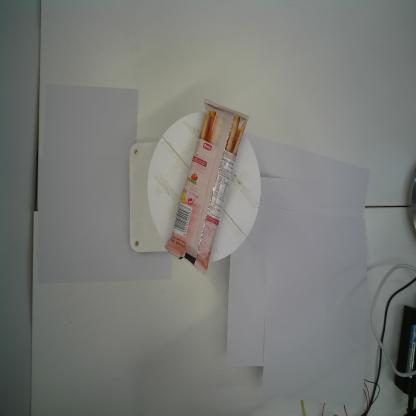Dessert: (164, 95, 251, 276)
